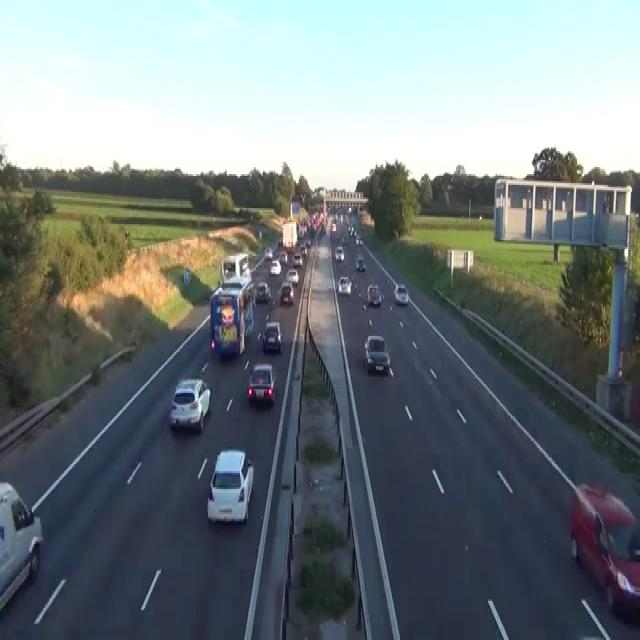Car: (570, 482, 639, 617), (0, 480, 43, 612), (206, 448, 254, 524), (604, 524, 639, 617), (169, 377, 211, 432), (247, 363, 277, 405), (221, 276, 256, 308), (364, 334, 390, 374), (262, 320, 282, 352), (367, 282, 382, 306), (255, 281, 271, 302), (279, 281, 293, 304), (394, 283, 408, 304), (337, 276, 351, 295), (269, 258, 281, 276), (286, 268, 299, 284), (334, 246, 344, 262), (355, 254, 365, 270), (292, 252, 302, 266), (264, 246, 272, 260), (300, 244, 307, 258), (279, 251, 287, 263), (354, 235, 362, 245), (298, 226, 304, 238), (341, 233, 348, 243), (331, 222, 336, 231), (306, 238, 311, 247), (278, 237, 282, 247), (347, 206, 352, 214), (258, 230, 262, 238)
Truck: (209, 276, 255, 358), (220, 250, 251, 284), (281, 220, 298, 250)
